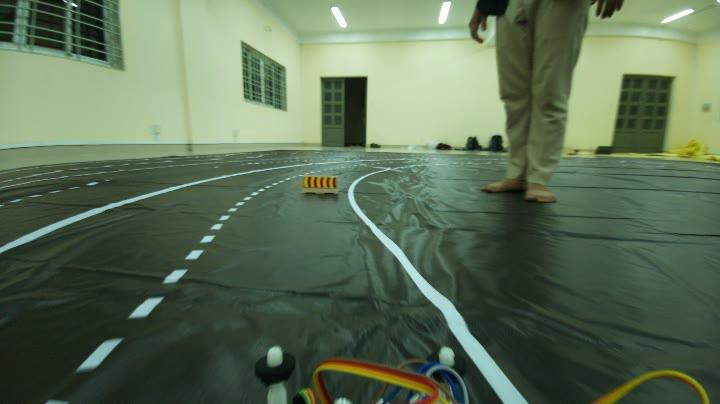roadblock: (299, 174, 342, 200)
